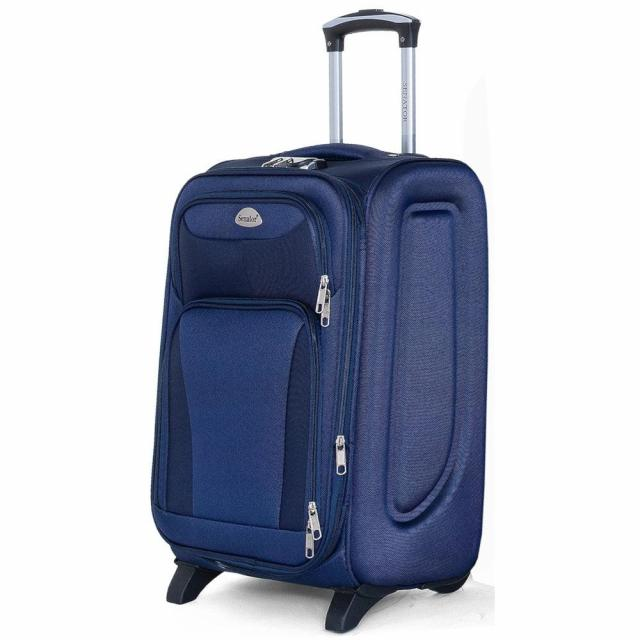luggage: (145, 135, 499, 610)
